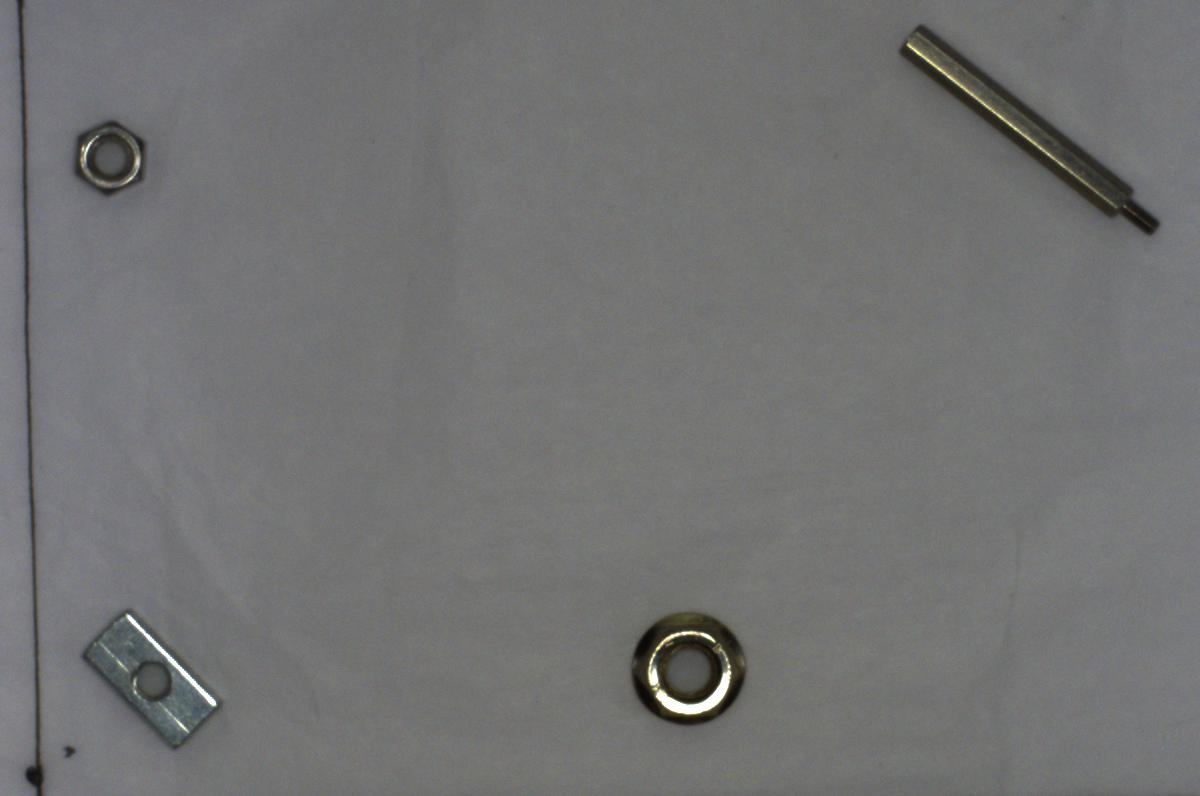Flange nut: (619, 596, 758, 730)
Hexagon nut: (62, 110, 159, 201)
Hexagonal steel column: (891, 14, 1168, 241)
Rectangular nut: (70, 602, 232, 758)
